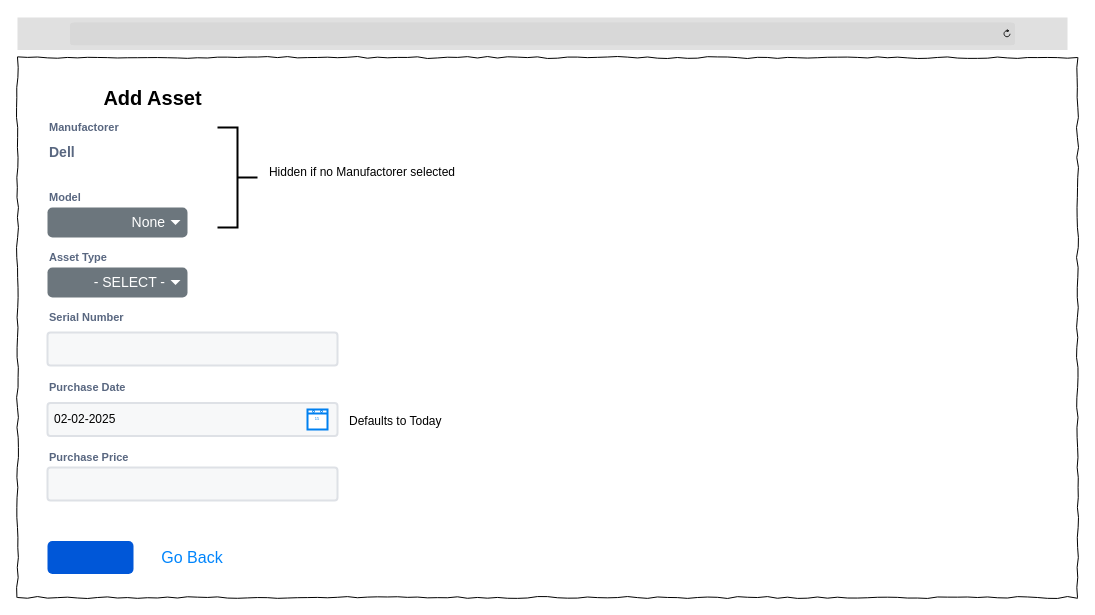
Image size: 1095x615. Some labels were removed from this diagram. The shapes that lost their labels are listed below. From the top down, each one's centre as x and y in pixels, then its label:
At (x=542, y=33): "companyitassets/assets/add".
At (x=90, y=557): "Save".
